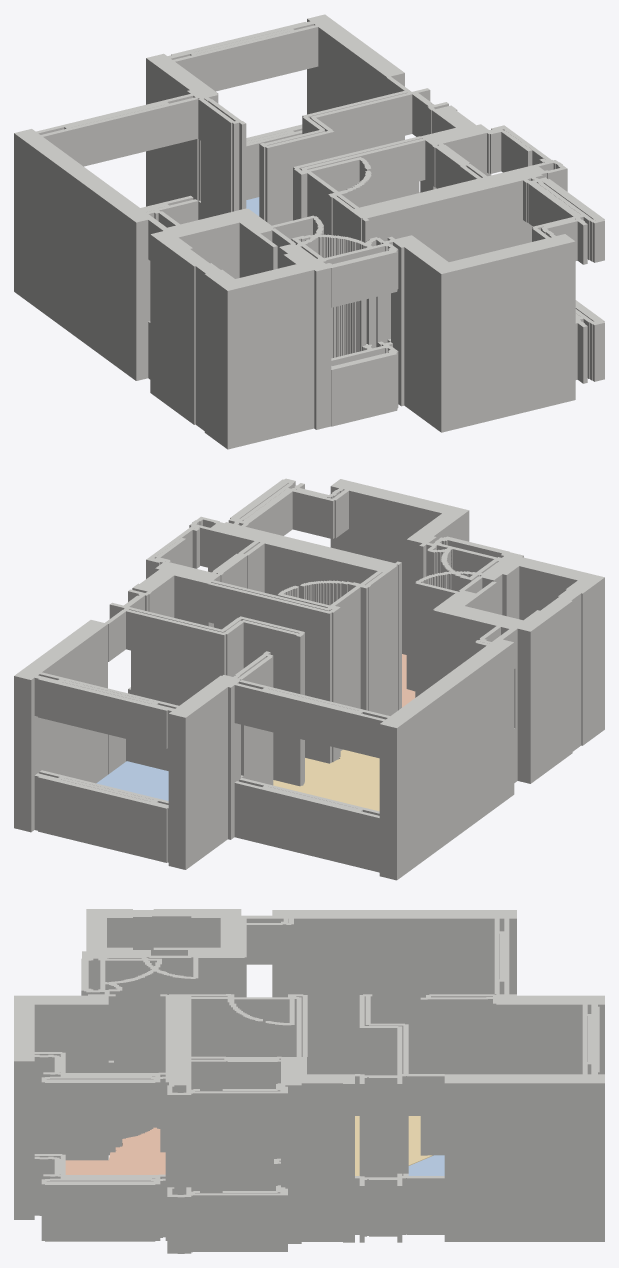
3 renders of one model, top to bottom at view 1: azimuth 30°, elevation 25°; view 2: azimuth 150°, elevation 25°; view 3: azimuth 270°, elevation 25°, orthographic. The views are drawn at different scales.
Parts seen in each view (by area): view 1: walls; view 2: walls, room:living:0, room:bedroom:3; view 3: walls, room:kitchen:5, room:living:0, room:bedroom:3.
Part boxes in pixels (x1,y1,x2,y2): walls: [14, 14, 604, 449]; walls: [14, 478, 604, 880]; room:living:0: [273, 749, 379, 811]; room:bedroom:3: [96, 761, 168, 800]; walls: [14, 909, 604, 1253]; room:kitchen:5: [65, 1127, 165, 1174]; room:living:0: [355, 1116, 432, 1175]; room:bedroom:3: [408, 1155, 444, 1175].
Size of the model in its own units: 7.04 by 2.8 by 9.45.
